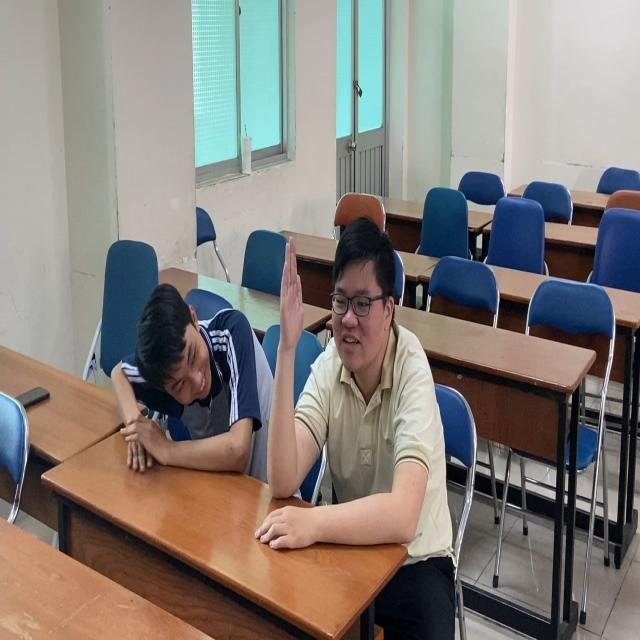raise_hand: (265, 216, 446, 550)
